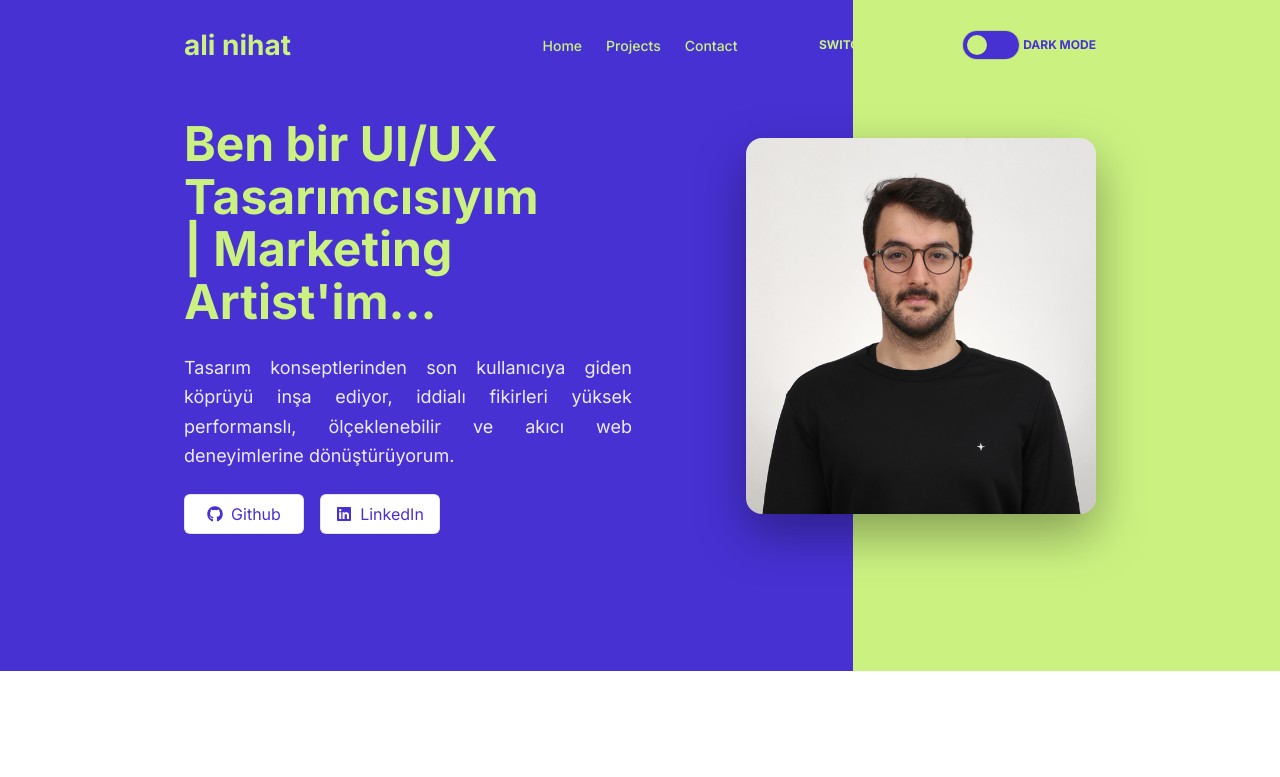
Test case: App – 23 parçalı stabil E2E › Projects sayfasına gidilir ve içerik yüklenir
Step 1. Click the link "Projects" → (634, 46), box [606,37,661,54]
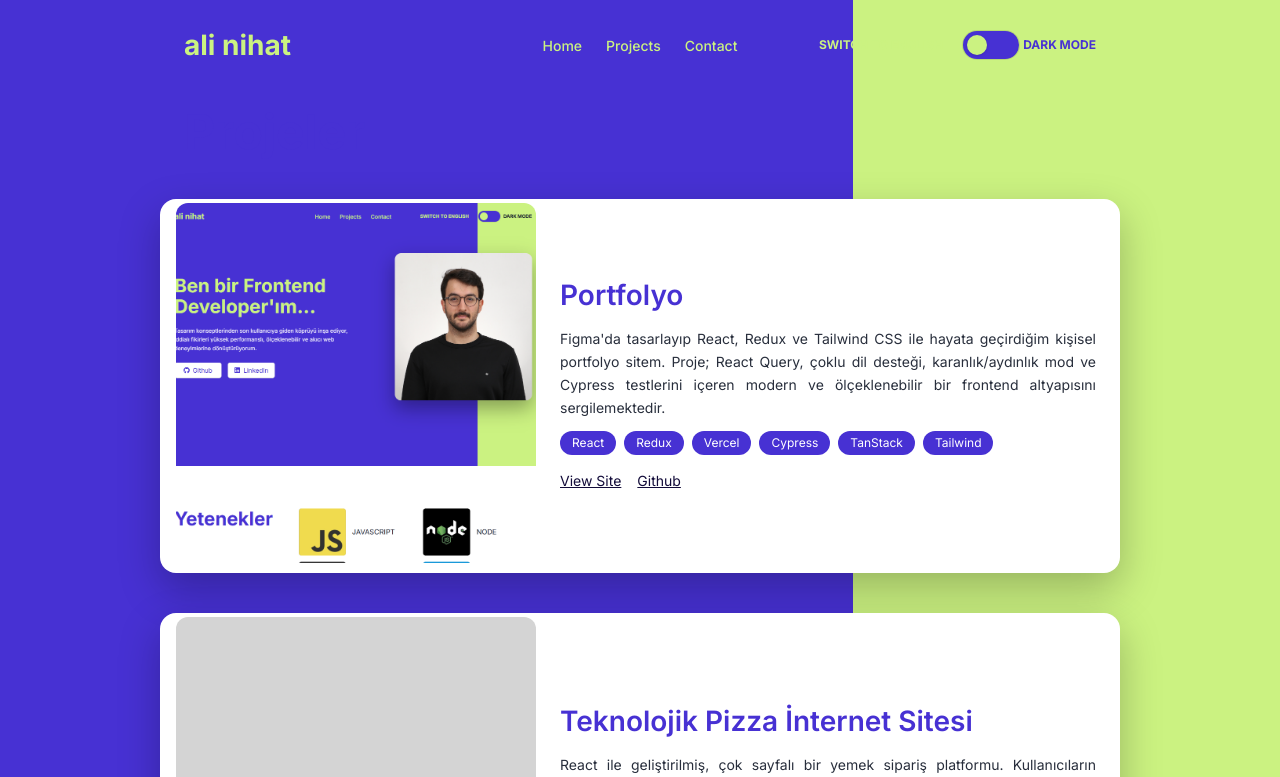
Check: the number of pictures is more than 0, box [176,203,536,563]
